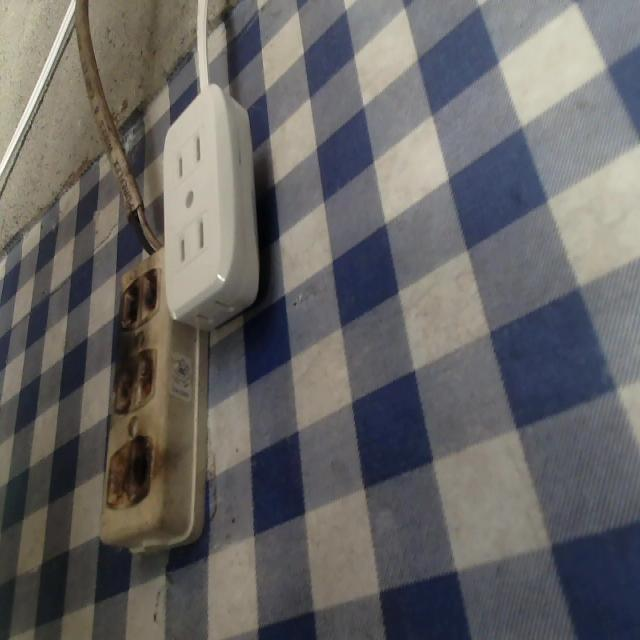-: (99, 433, 160, 511), (99, 345, 166, 411), (104, 268, 168, 332)
